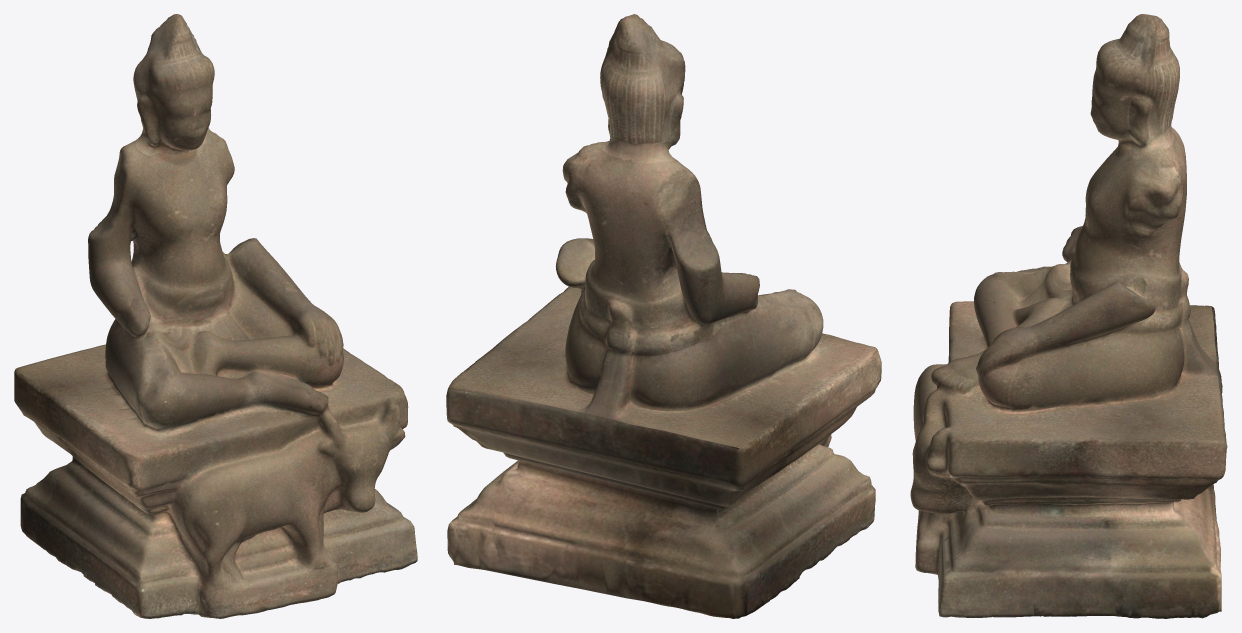
Rendered from 20_thanphuonghuong_final.glb.
3 renders of one model, left to right at view 1: azimuth 30°, elevation 25°; view 2: azimuth 150°, elevation 25°; view 3: azimuth 270°, elevation 25°, orthographic. The views are drawn at different scales.
Bounding box in the file's own units: 0.3945 × 0.6861 × 0.3685.
1 material, 1 textured.
